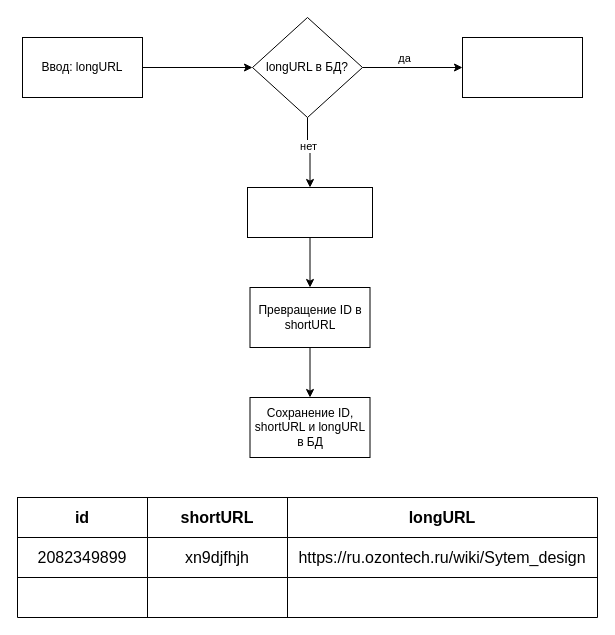
Some shapes in this 615 by 635 pixel diagram are drawn without their labels. Here are the shapes that lost their labels. From the top down, the centre of each, then its label:
At pixel 522 67: "Возврат shortURL".
At pixel 309 212: "Генерация нового ID".
